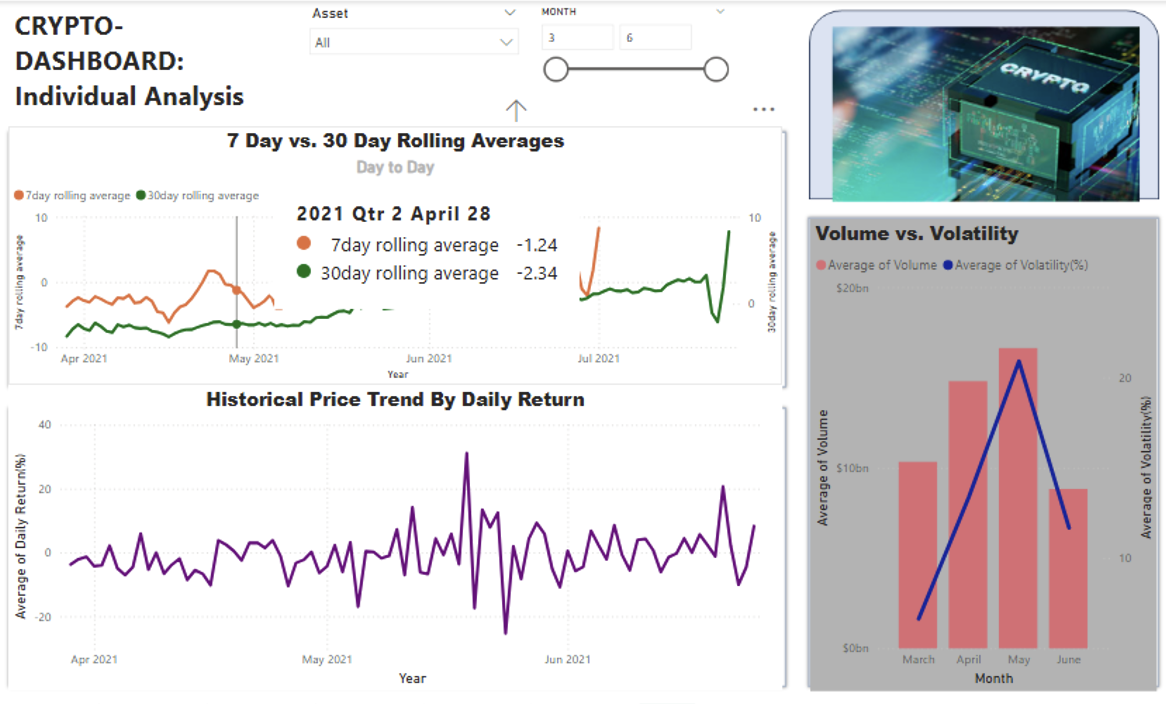

This screenshot's page, from the dashboard's own definition file:
{"tool":"powerbi","page":{"name":"Page 2","canvas":[1280,720],"ordinal":1},"visuals":[{"type":"lineChart","title":"7 Day vs. 30 Day Rolling Averages","fields":{"Y":["DateTable.7day rolling average"],"Y2":["DateTable.30day rolling average"],"Category":["DateTable.DATE.Variation.Date Hierarchy.Year","DateTable.DATE.Variation.Date Hierarchy.Quarter","DateTable.DATE.Variation.Date Hierarchy.Month","DateTable.DATE.Variation.Date Hierarchy.Day"]},"box":[91,128.2,793.3,265.7],"z":0},{"type":"slicer","fields":{"Values":["DateTable.MONTH"]},"box":[624.2,0,213.6,128.2],"z":1000},{"type":"slicer","fields":{"Values":["Sheet1.Asset"]},"box":[389.3,0,234.8,86.7],"z":2000},{"type":"lineStackedColumnComboChart","title":"Volume vs. Volatility","fields":{"Y":["Avg(Sheet1.Volume)"],"Category":["DateTable.DATE.Variation.Date Hierarchy.Month"],"Y2":["Avg(Sheet1.Volatility(%))"]},"box":[912.5,223.3,355.2,483.5],"z":3000},{"type":"textbox","box":[91.9,0,279.8,127.4],"z":4000},{"type":"lineChart","title":"Historical Price Trend By Daily Return","fields":{"Y":["Avg(Sheet1.Daily Return(%))"],"Category":["DateTable.DATE.Variation.Date Hierarchy.Year","DateTable.DATE.Variation.Date Hierarchy.Quarter","DateTable.DATE.Variation.Date Hierarchy.Month","DateTable.DATE.Variation.Date Hierarchy.Day"]},"box":[91,394,793,313],"z":5000}]}

Visuals, with their boxes on the page's 1280x720 design canvas (x1, y1, x2, y2). These are canvas units, not pixel positions in the 1166x704 screenshot, which may show the page scaled, cropped or inside an application window:
"7 Day vs. 30 Day Rolling Averages" lineChart: 91,128,884,394
slicer - DateTable.MONTH: 624,0,838,128
slicer - Sheet1.Asset: 389,0,624,87
"Volume vs. Volatility" lineStackedColumnComboChart: 912,223,1268,707
textbox: 92,0,372,127
"Historical Price Trend By Daily Return" lineChart: 91,394,884,707
